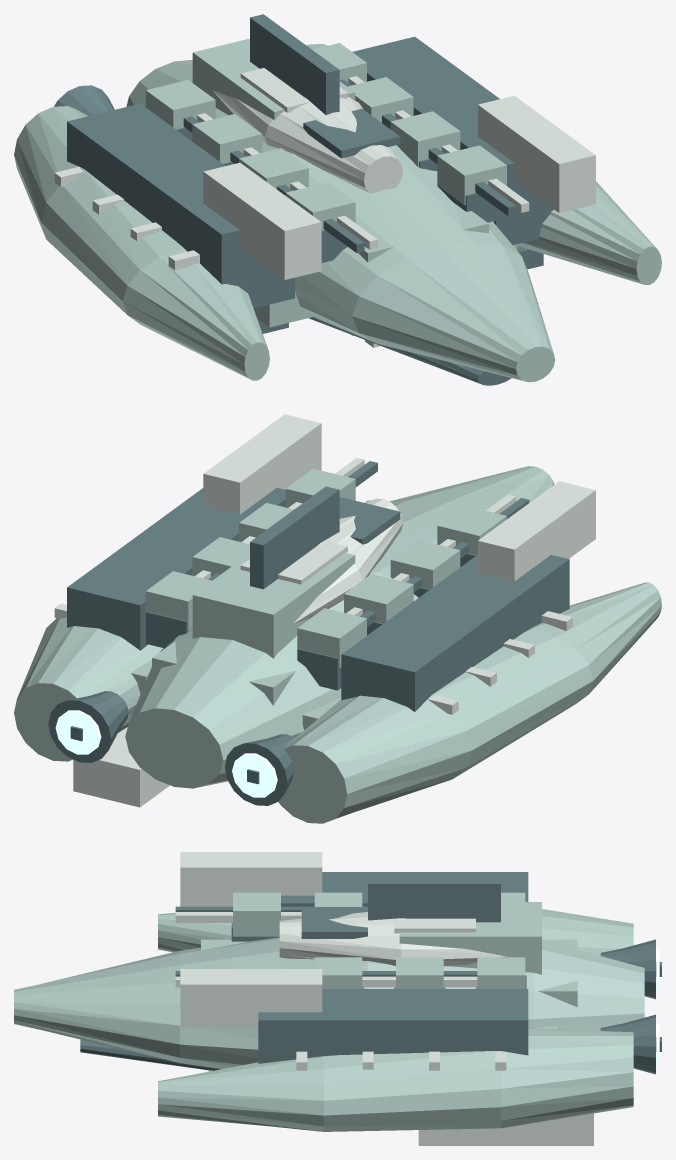
The picture shows the model from 3 angles, top to bottom: view 1: azimuth 30°, elevation 25°; view 2: azimuth 150°, elevation 25°; view 3: azimuth 270°, elevation 25°; orthographic projection. The views are drawn at different scales.
Size of the model in its own units: 18.63 by 9.09 by 25.47.
